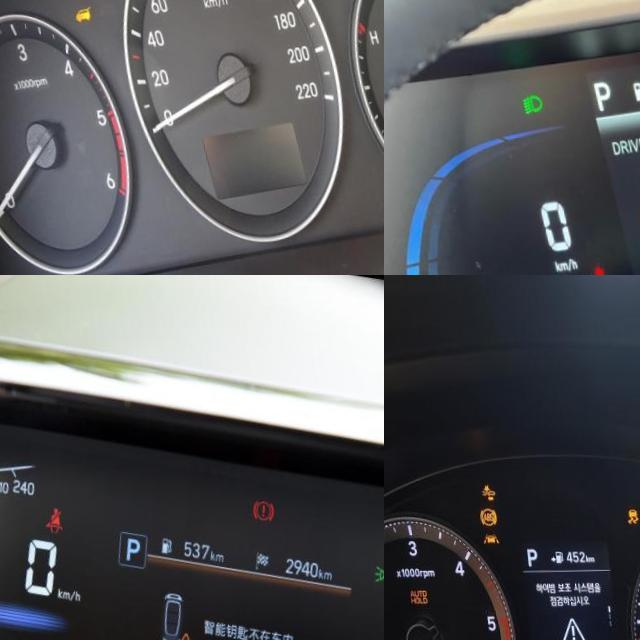Central Warning lamp: (163, 631, 187, 640)
LaneCenteringOff: (474, 533, 492, 545)
Low beam: (515, 94, 538, 114)
SideLamp: (362, 564, 384, 587)
